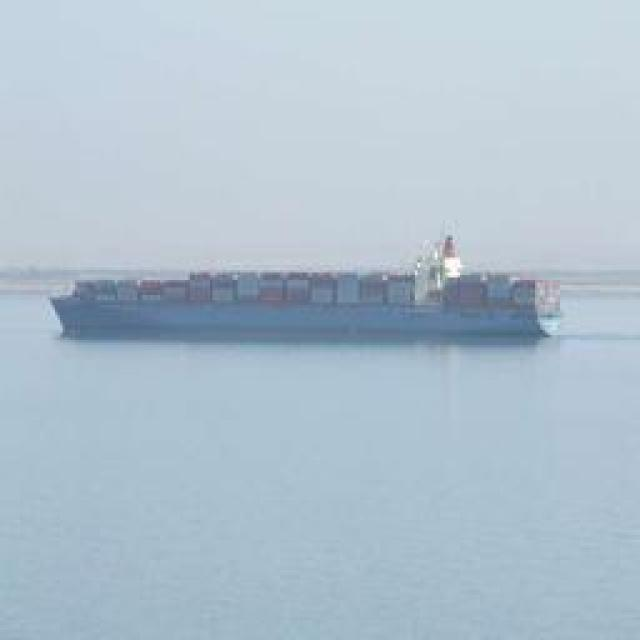CIV_Ship: (34, 268, 572, 342)
